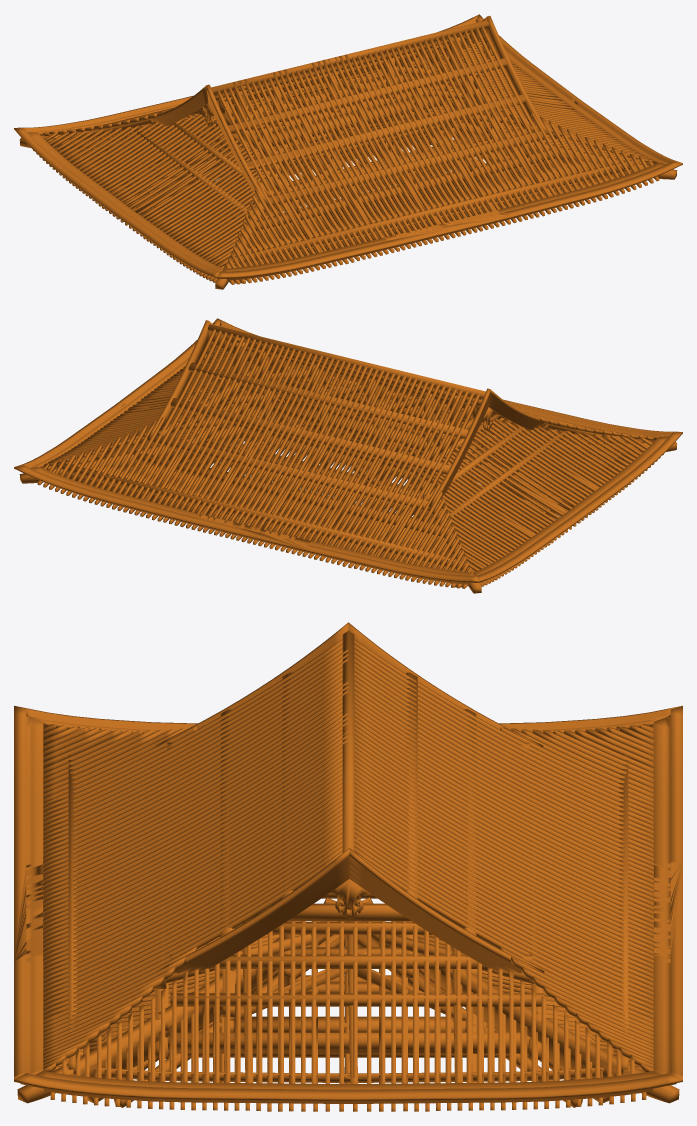
The model's file is building_09.glb.
The picture shows the model from 3 angles, top to bottom: view 1: azimuth 30°, elevation 25°; view 2: azimuth 150°, elevation 25°; view 3: azimuth 270°, elevation 25°; orthographic projection. The views are drawn at different scales.
Parts seen in each view (by area): view 1: full_building.009; view 2: full_building.009; view 3: full_building.009.
Part boxes in pixels (x1,y1,x2,y2): full_building.009: [14, 14, 682, 289]; full_building.009: [14, 318, 682, 593]; full_building.009: [14, 622, 682, 1111].
Bounding box in the file's own units: 5.4 × 1.53 × 4.08.
